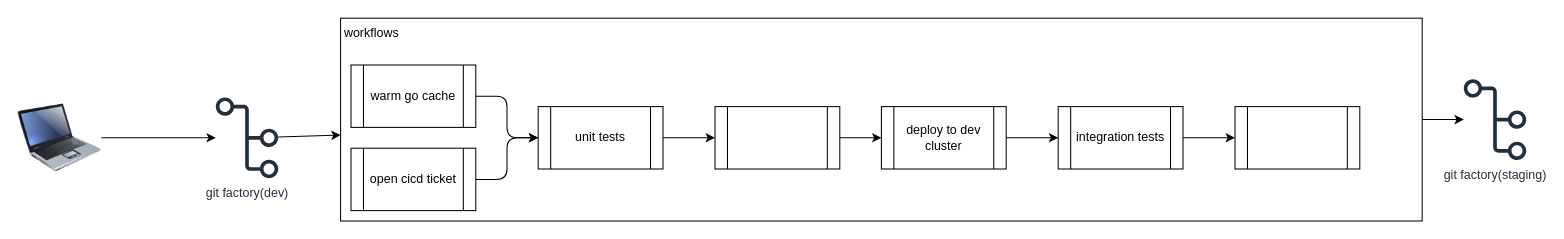
The diagram is 1564 pixels wide and 239 high, and some of its shapes have lost their labels. Here are the shapes that lost their labels. From the top down, the centre of each, then its label:
point (59, 137): developer
point (777, 137): build images
point (1297, 137): chaos testing
